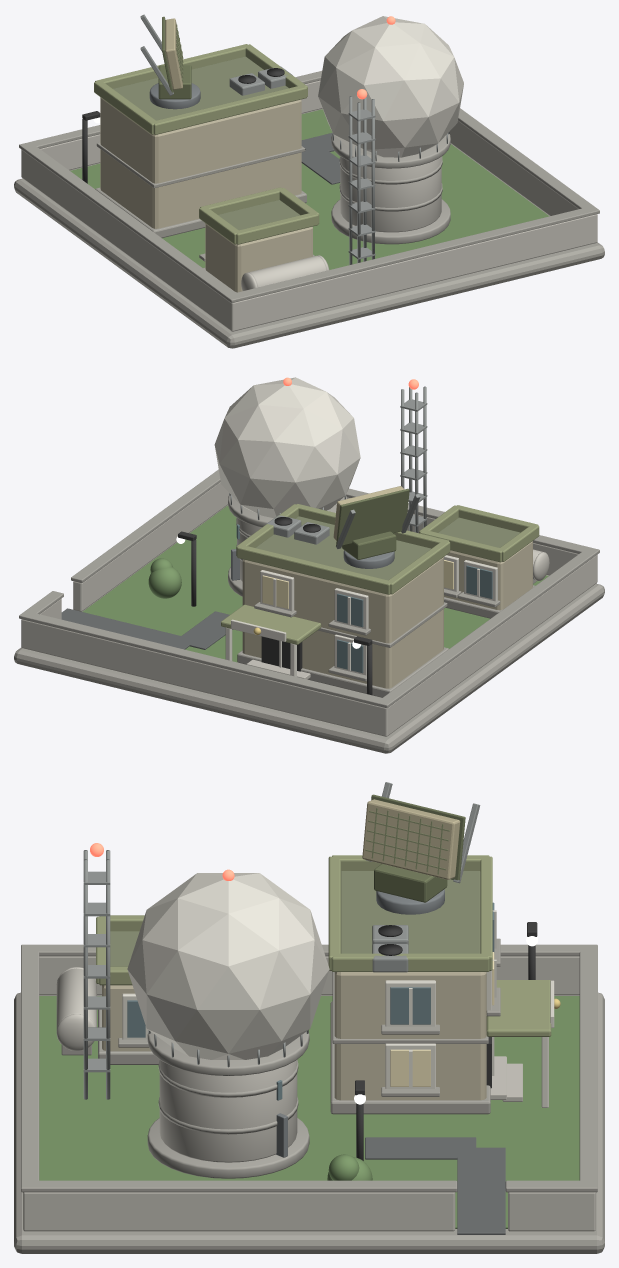
The model's file is radar_4.glb.
The picture shows the model from 3 angles, top to bottom: view 1: azimuth 30°, elevation 25°; view 2: azimuth 150°, elevation 25°; view 3: azimuth 270°, elevation 25°; orthographic projection. The views are drawn at different scales.
Visible parts, largest first — view 1: Cube.006, Icosphere, Cube.001, Cube, Cube.091, Cube.093, Cylinder.001, Cube.061, Cube.092, Cube.029, Cube.097, Cube.094 (+26 smaller); view 2: Icosphere, Cube.006, Cube, Cube.089, Cube.001, Cube.093, Cube.097, Cube.090, Cube.029, Cube.094, Cube.044, Cube.061 (+31 smaller); view 3: Cube.001, Icosphere, Cube.097, Cube, Cube.006, Cylinder.001, Cube.029, Cube.098, Cube.043, Cube.092, Cube.090, Cube.002 (+34 smaller).
Boxes of the visible parts, box(x1,y1,x2,y2) form: Cube.006: box(100, 97, 301, 228); Icosphere: box(318, 16, 463, 157); Cube.001: box(70, 109, 549, 269); Cube: box(14, 108, 604, 348); Cube.091: box(227, 214, 597, 331); Cube.093: box(24, 151, 228, 328); Cylinder.001: box(340, 156, 441, 232); Cube.061: box(205, 223, 312, 292); Cube.092: box(225, 206, 599, 302); Cube.029: box(113, 56, 288, 120); Cube.097: box(449, 121, 578, 215); Cube.094: box(21, 146, 235, 300); Icosphere: box(214, 377, 360, 518); Cube.006: box(242, 557, 443, 688); Cube: box(14, 505, 604, 753); Cube.089: box(21, 619, 390, 736); Cube.001: box(82, 505, 548, 662); Cube.093: box(390, 557, 594, 734); Cube.097: box(73, 482, 228, 611); Cube.090: box(19, 611, 393, 708); Cube.029: box(255, 516, 430, 580); Cube.094: box(381, 549, 596, 704); Cube.044: box(336, 488, 409, 545); Cube.061: box(444, 541, 532, 610); Cube.001: box(39, 996, 579, 1228); Icosphere: box(127, 873, 329, 1059); Cube.097: box(32, 1192, 455, 1231); Cube: box(14, 992, 604, 1253); Cube.006: box(334, 972, 486, 1100); Cylinder.001: box(159, 1059, 297, 1162); Cube.029: box(341, 871, 480, 953); Cube.098: box(29, 1180, 457, 1192); Cube.043: box(362, 799, 460, 879); Cube.092: box(21, 944, 39, 1192); Cube.090: box(579, 944, 597, 1192); Cube.002: box(457, 1147, 505, 1234).
Size of the model in its own units: 2.92 by 1.62 by 2.92.
